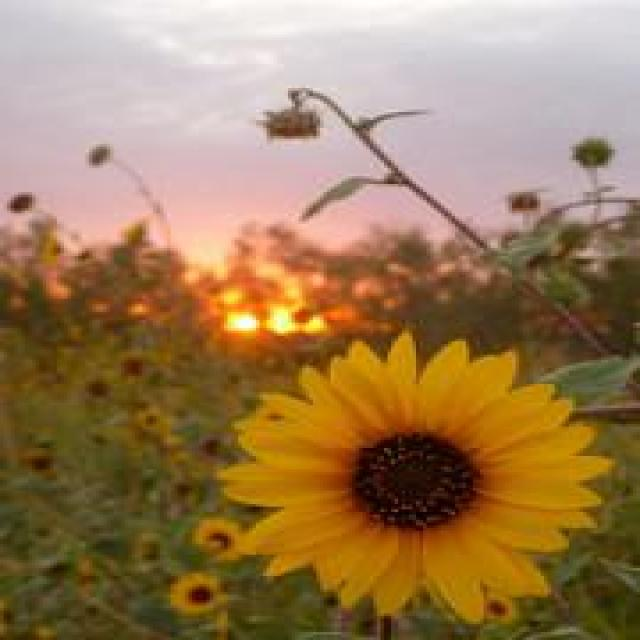sunflower: (222, 330, 612, 619), (196, 519, 244, 558), (172, 572, 218, 612)
